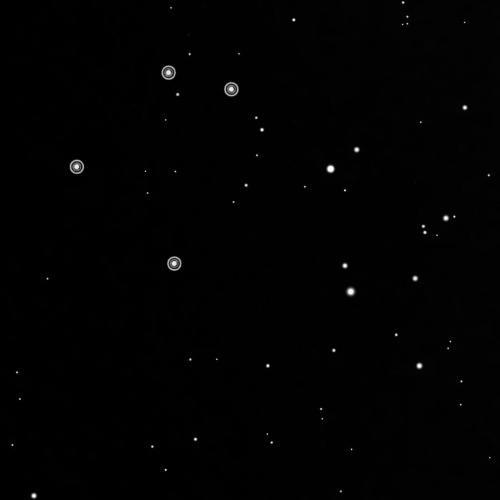coma_berenices: (65, 55, 244, 276)
